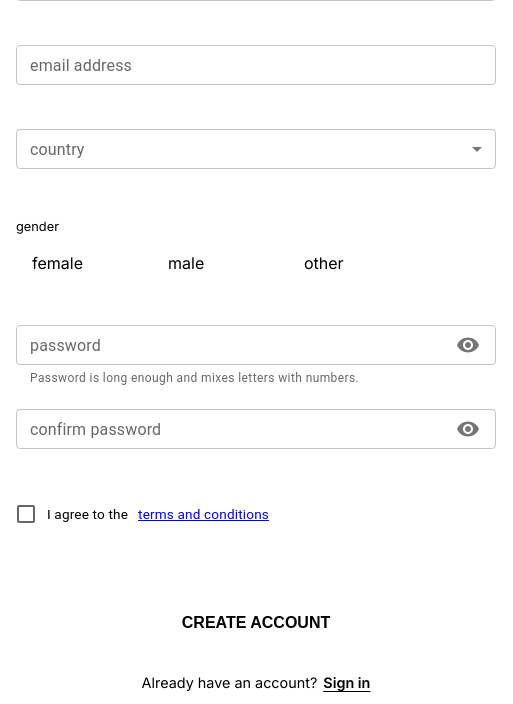
Test: RegisterPanel › shows a live hint of what the password still needs
(page scrolled)
Type "abc" into the password field labelled "password" at {"x": 230, "y": 345}, box x1=16 y1=325 x2=443 y2=365
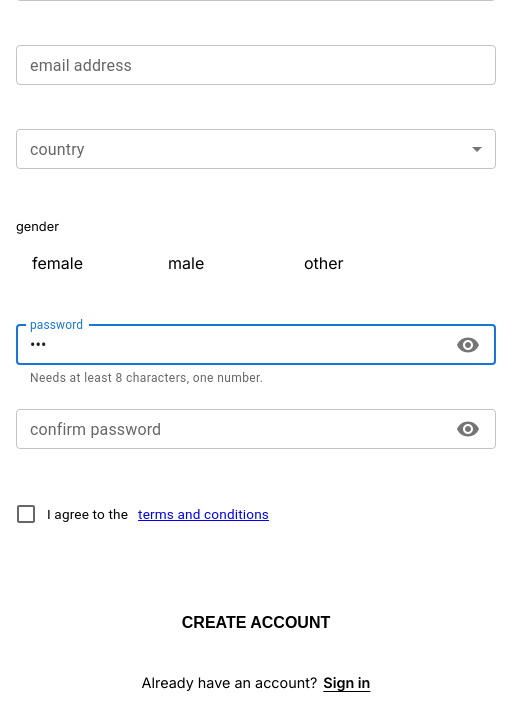
Expected: the text "Needs at least 8 characters, one number." is shown, x1=30 y1=371 x2=263 y2=385
Type "12345" into the password field labelled "password" at {"x": 230, "y": 345}, box x1=16 y1=325 x2=443 y2=365
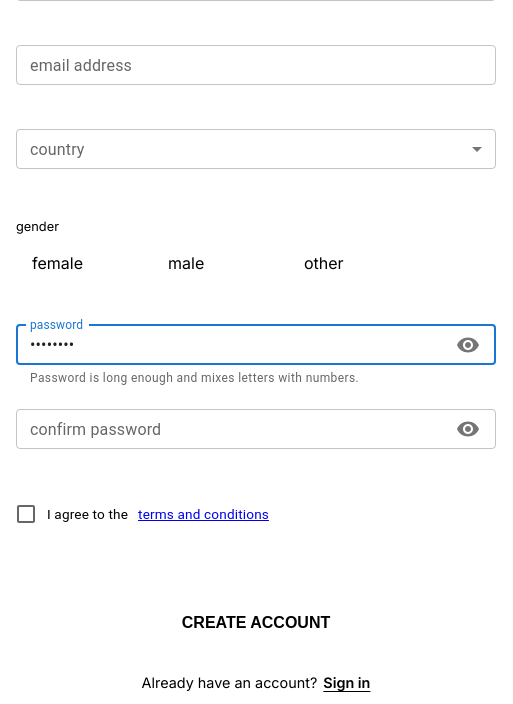
Expected: the text "Password is long enough and mixes letters with numbers." is shown, x1=30 y1=371 x2=359 y2=385
